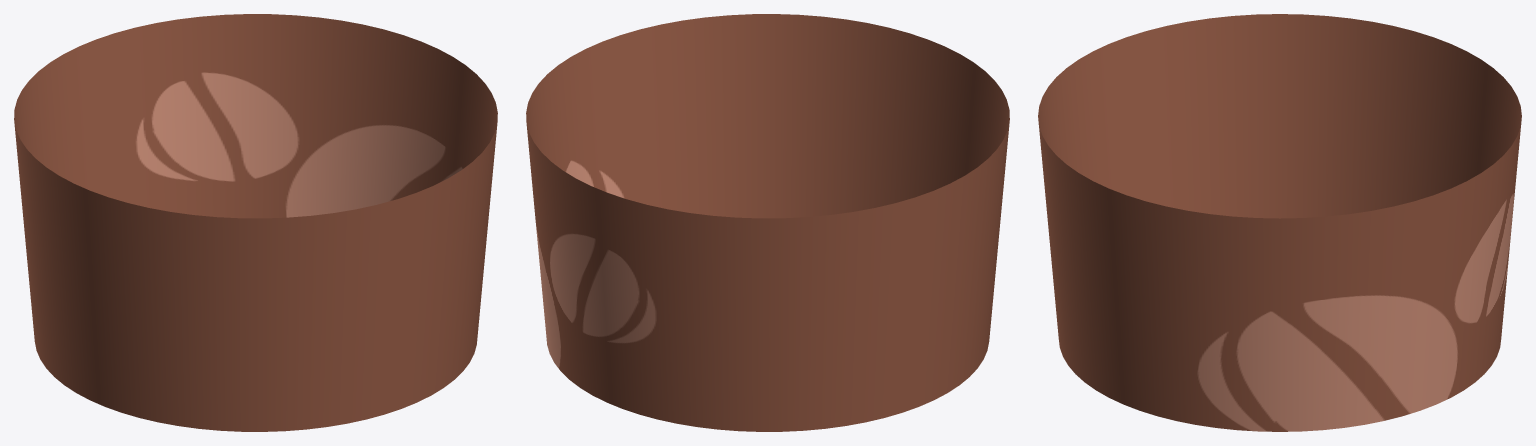
Rendered from coffeeSleeve.fbx.
3 views of the same model, side by side, from view 1: azimuth 30°, elevation 25°; view 2: azimuth 150°, elevation 25°; view 3: azimuth 270°, elevation 25° (orthographic).
Parts seen in each view (by area): view 1: Cylinder.009; view 2: Cylinder.009; view 3: Cylinder.009.
Boxes of the visible parts, bbox=[...] form: Cylinder.009: bbox=[14, 14, 497, 431]; Cylinder.009: bbox=[526, 14, 1009, 431]; Cylinder.009: bbox=[1038, 14, 1521, 431].
Bounding box in the file's own units: 220 × 112 × 220.
